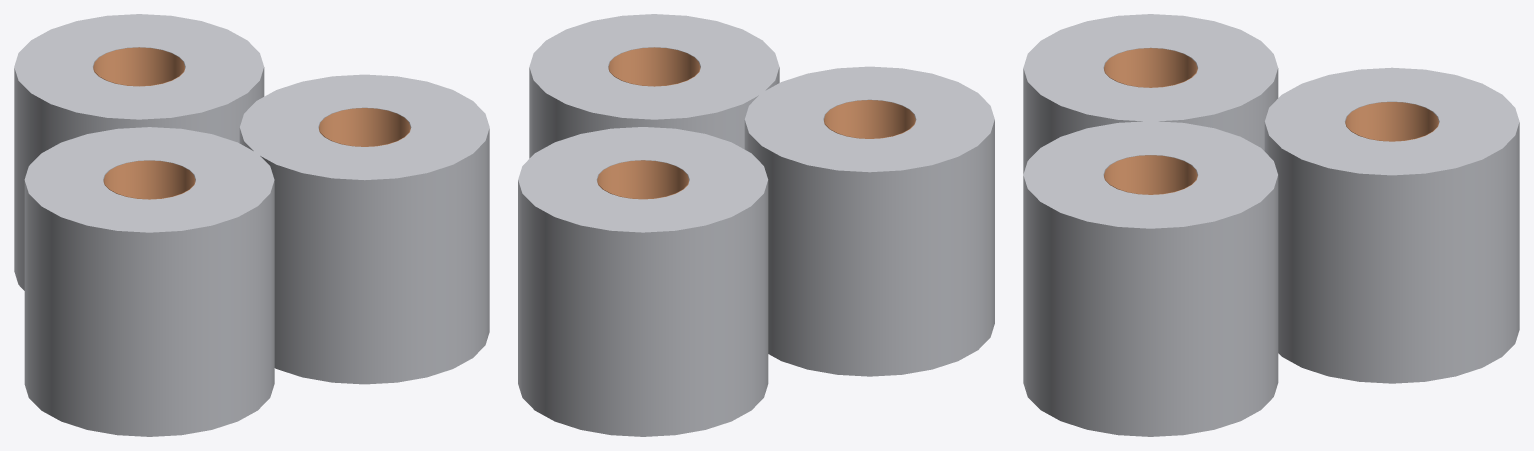
Rendered from Napkin.fbx.
3 views of the same model, side by side, from view 1: azimuth 30°, elevation 25°; view 2: azimuth 150°, elevation 25°; view 3: azimuth 270°, elevation 25° (orthographic).
Visible parts, largest first — view 1: tissue 3, tissue 1, tissue 2; view 2: tissue 2, tissue 3, tissue 1; view 3: tissue 1, tissue 2, tissue 3.
Boxes of the visible parts, <box> form: tissue 3: <box>24,127,274,436</box>; tissue 1: <box>239,74,489,384</box>; tissue 2: <box>14,14,264,290</box>; tissue 2: <box>518,127,768,436</box>; tissue 3: <box>744,66,994,376</box>; tissue 1: <box>529,14,779,158</box>; tissue 1: <box>1023,121,1278,436</box>; tissue 2: <box>1264,67,1519,383</box>; tissue 3: <box>1023,14,1278,174</box>.
Bounding box in the file's own units: 34.78 × 15.73 × 33.97.
